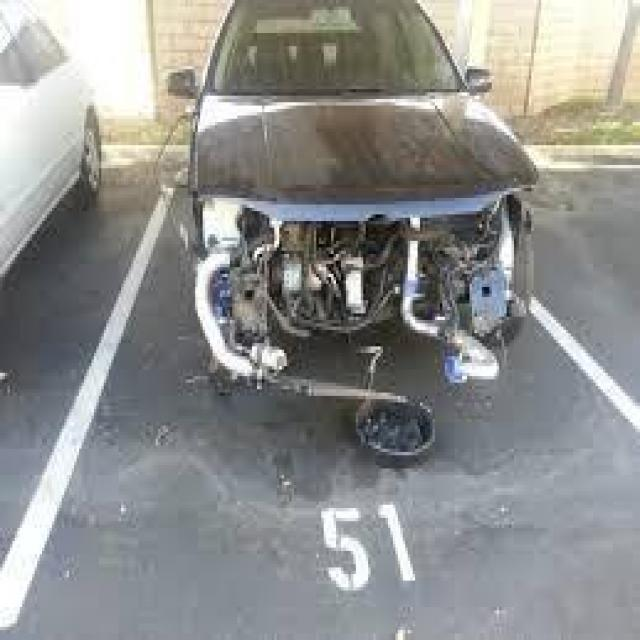damaged: (193, 192, 514, 402)
